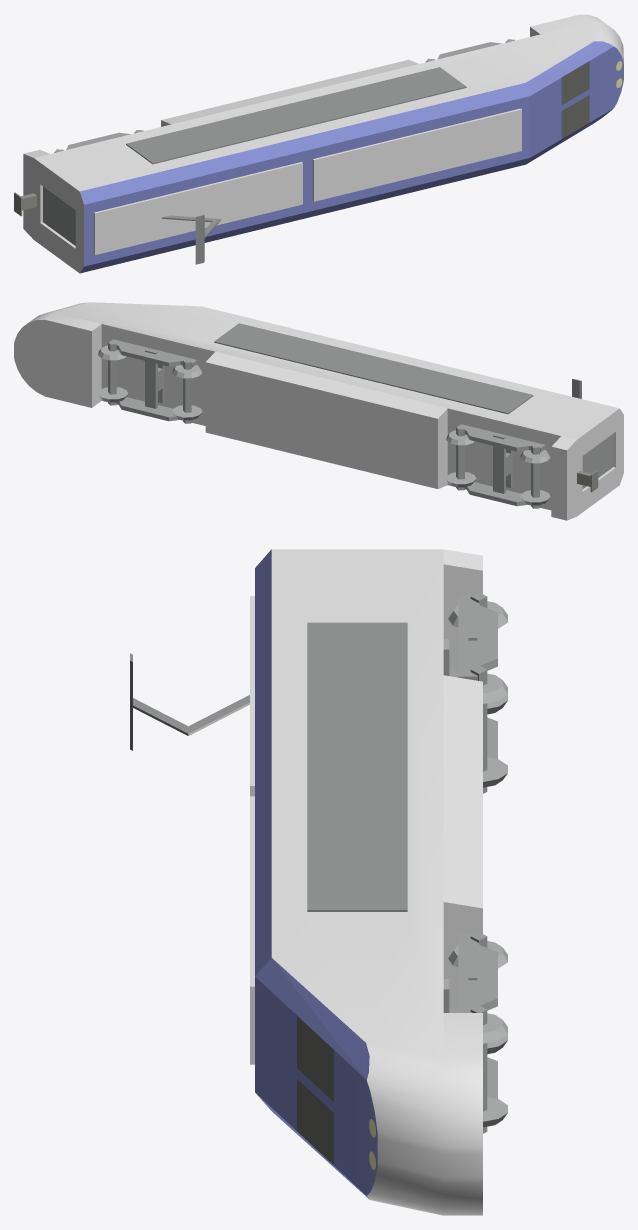
File: locomotive_3.dae
3 renders of one model, top to bottom at view 1: azimuth 30°, elevation 25°; view 2: azimuth 150°, elevation 25°; view 3: azimuth 270°, elevation 25°, orthographic. The views are drawn at different scales.
Parts seen in each view (by area): view 1: _1_face, _3_stripes, _2_sides, _5_windows, _4_door, _9_pantograph, _6_box, _8_coupler; view 2: _1_face, _2_sides, _6_box, _7_wheels, _4_door, _8_coupler; view 3: _1_face, _2_sides, _3_stripes, _6_box, _5_windows, _7_wheels, _9_pantograph.
Part boxes in pixels (bbox=[...]): _1_face: bbox=[23, 14, 623, 273]; _3_stripes: bbox=[80, 41, 623, 273]; _2_sides: bbox=[126, 67, 466, 164]; _5_windows: bbox=[561, 61, 589, 138]; _4_door: bbox=[43, 186, 75, 245]; _9_pantograph: bbox=[162, 214, 220, 264]; _6_box: bbox=[54, 39, 514, 152]; _8_coupler: bbox=[14, 192, 36, 216]; _1_face: bbox=[14, 302, 623, 520]; _2_sides: bbox=[214, 323, 533, 414]; _6_box: bbox=[108, 339, 545, 508]; _7_wheels: bbox=[98, 345, 550, 505]; _4_door: bbox=[582, 433, 613, 488]; _8_coupler: bbox=[577, 470, 598, 492]; _1_face: bbox=[188, 549, 482, 1215]; _2_sides: bbox=[307, 622, 407, 911]; _3_stripes: bbox=[255, 549, 377, 1198]; _6_box: bbox=[443, 592, 497, 1133]; _5_windows: bbox=[297, 1016, 333, 1165]; _7_wheels: bbox=[443, 601, 507, 1127]; _9_pantograph: bbox=[130, 653, 249, 750].
Bounding box in the file's own units: 8689 × 1150 × 2498.
